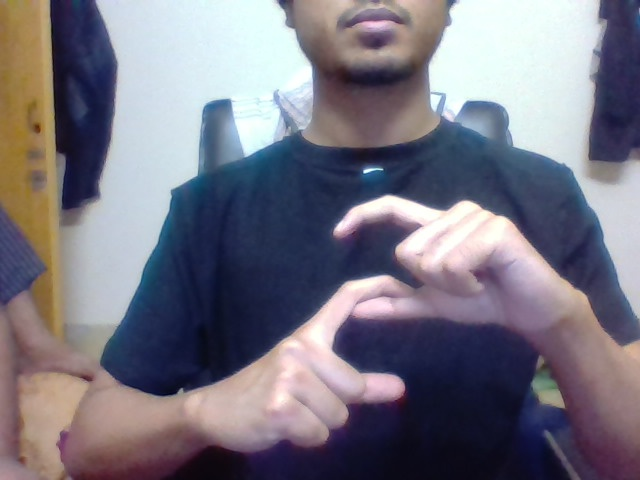S: (331, 192, 412, 404)
